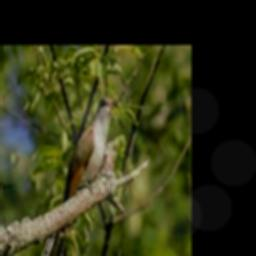Cuckoo: (40, 96, 117, 256)
